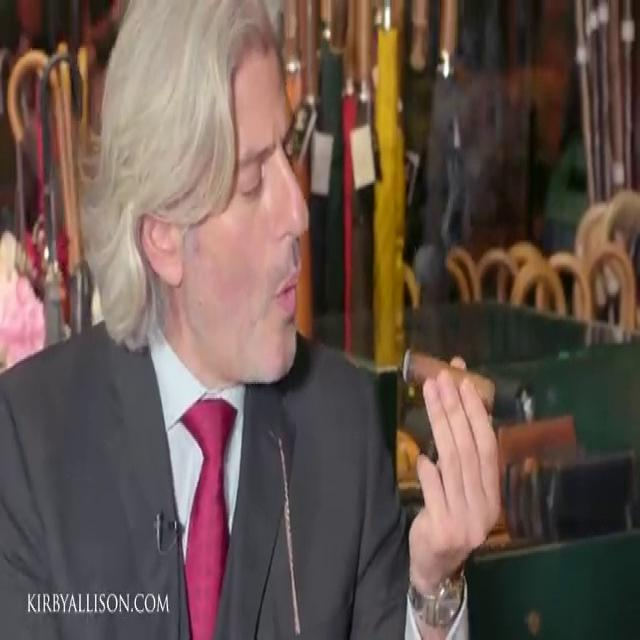Smooking: (401, 337, 494, 419)
